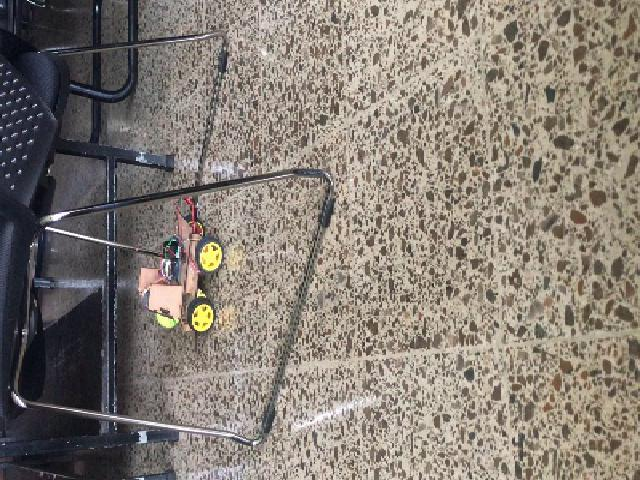Ball: (152, 312, 178, 326)
Robot: (138, 209, 222, 334)
